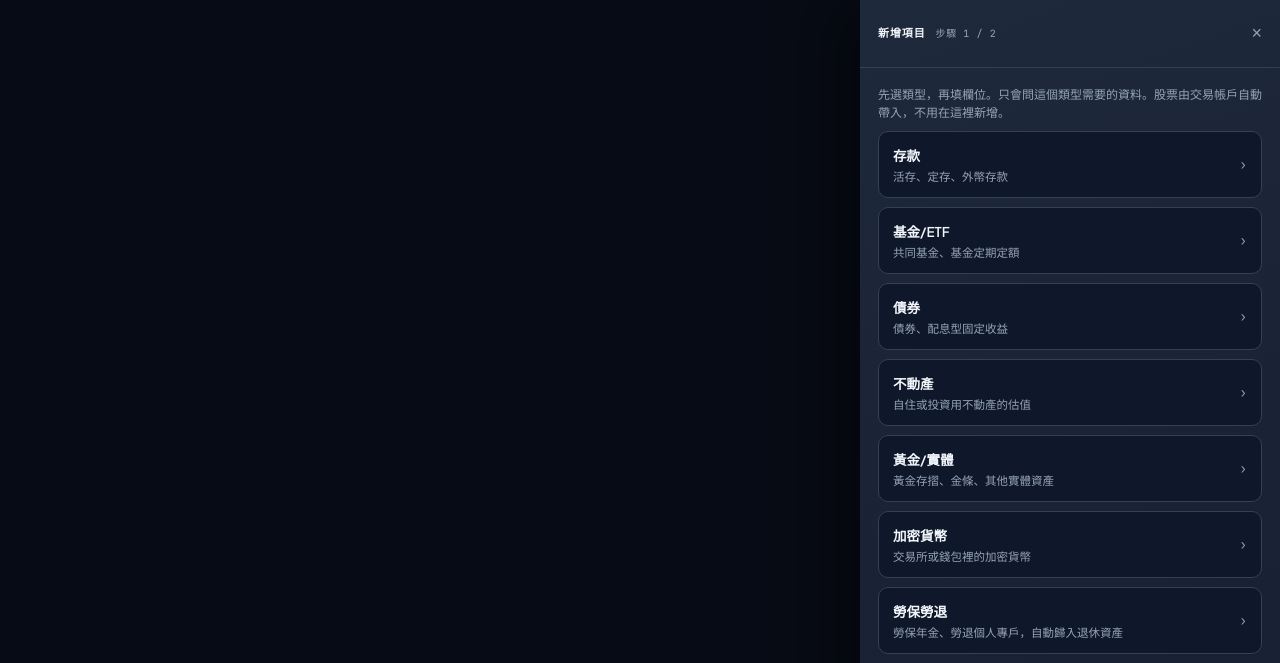
Test case: an asset form › has example text, and explains the chosen group
Click the button "存款" at (906, 155), box [893,147,920,164]
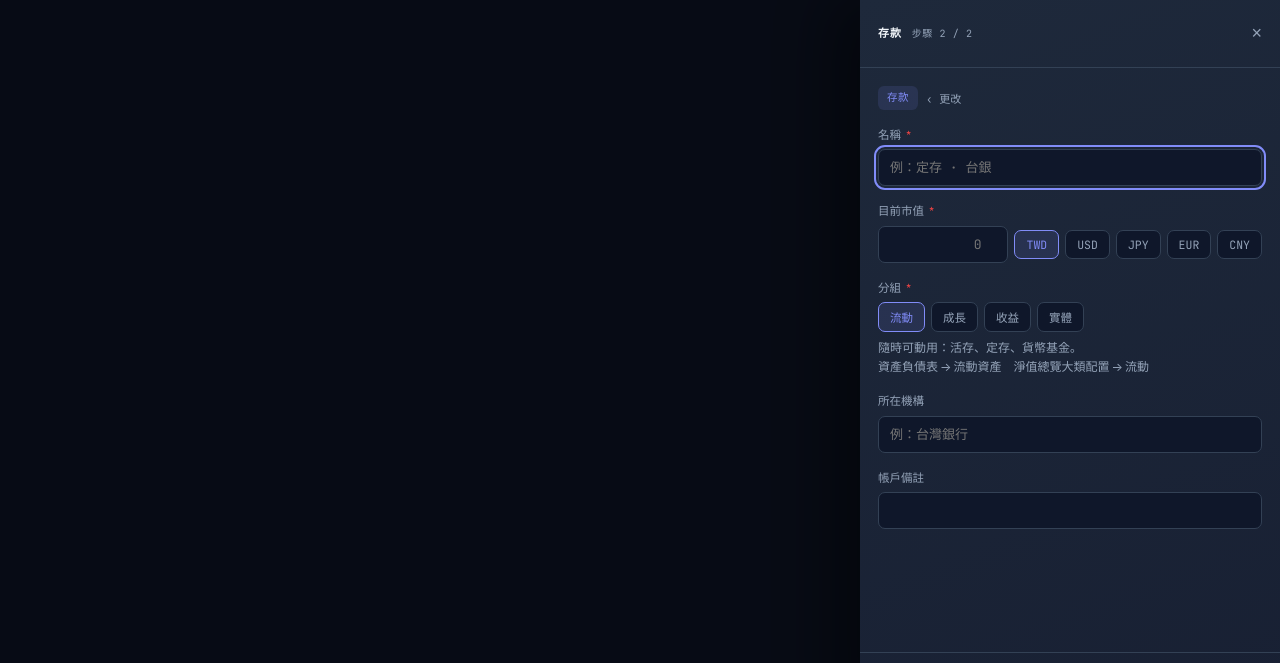
Expected: the field with placeholder "例：定存 · 台銀" is shown, [878,149,1262,186]
Expected: the text "隨時可動用：活存、定存、貨幣基金。 資產負債表 → 流動資產 淨值總覽大類配置 → 流動" is shown, [878,340,1149,374]
Click the button "成長" at (954, 317), box [931,302,978,332]
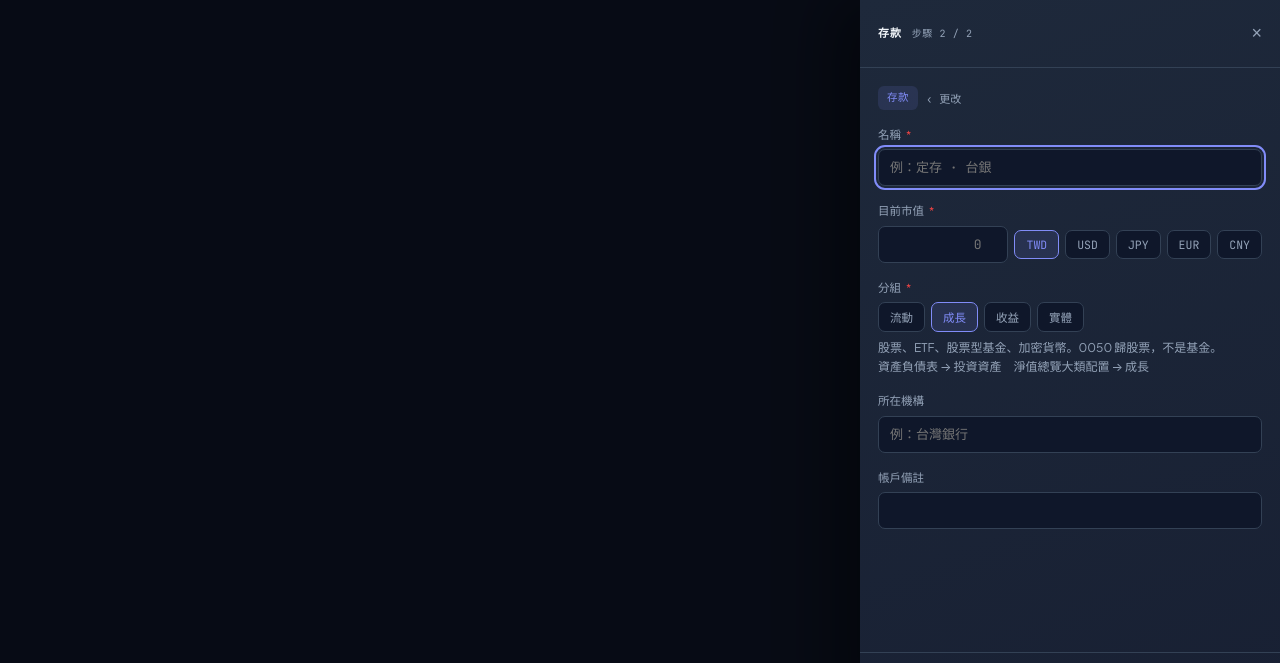
Expected: the text "股票、ETF、股票型基金、加密貨幣。0050 歸股票，不是基金。 資產負債表 → 投資資產 淨值總覽大類配置 → 成長" is shown, [878,338,1262,376]
Expected: the text "隨時可動用" is gone
